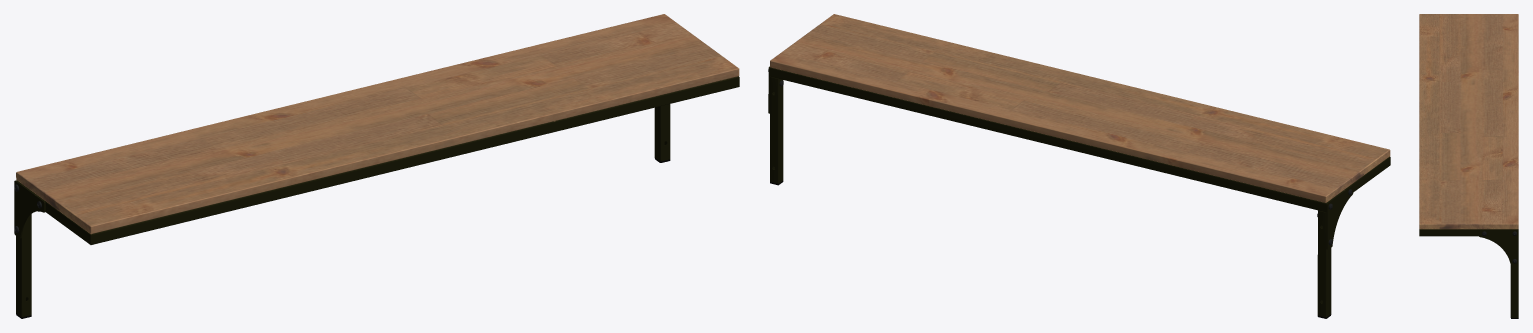
Rendered from 20 - FJÄLLBO Wall shelf - black 101x20 cm.glb.
3 renders of one model, left to right at view 1: azimuth 30°, elevation 25°; view 2: azimuth 150°, elevation 25°; view 3: azimuth 270°, elevation 25°, orthographic. The views are drawn at different scales.
Parts seen in each view (by area): view 1: Mesh_0; view 2: Mesh_0; view 3: Mesh_0.
Boxes of the visible parts, x1,y1,x2,y2 form: Mesh_0: [14, 14, 739, 318]; Mesh_0: [768, 14, 1390, 318]; Mesh_0: [1419, 14, 1518, 318].
Size of the model in its own units: 1.01 by 0.2105 by 0.2.
Materials: 1 (1 with a texture image).
